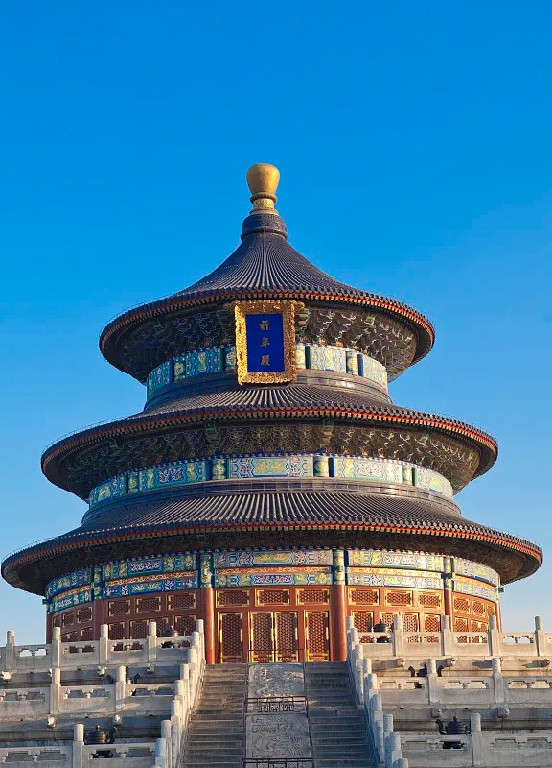Heaven: (1, 163, 545, 662)
